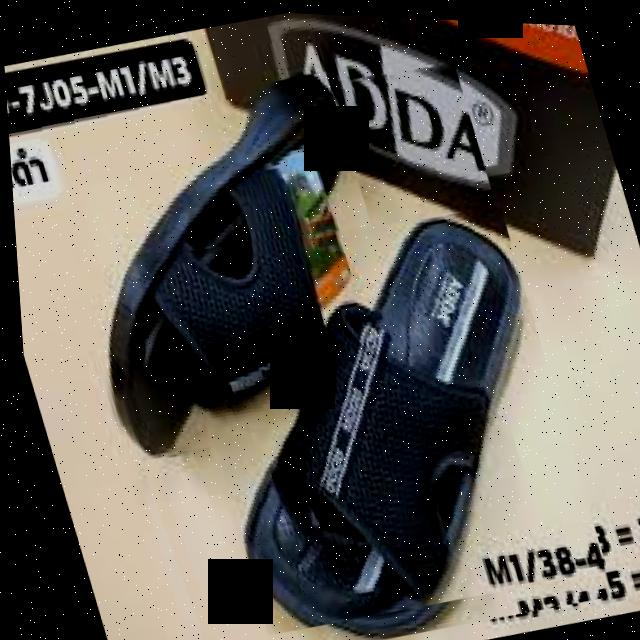shoe: (14, 26, 607, 640), (140, 174, 604, 640), (19, 58, 423, 475)
